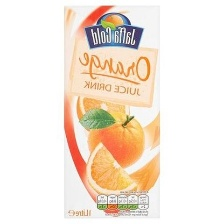carton: (53, 2, 165, 221)
